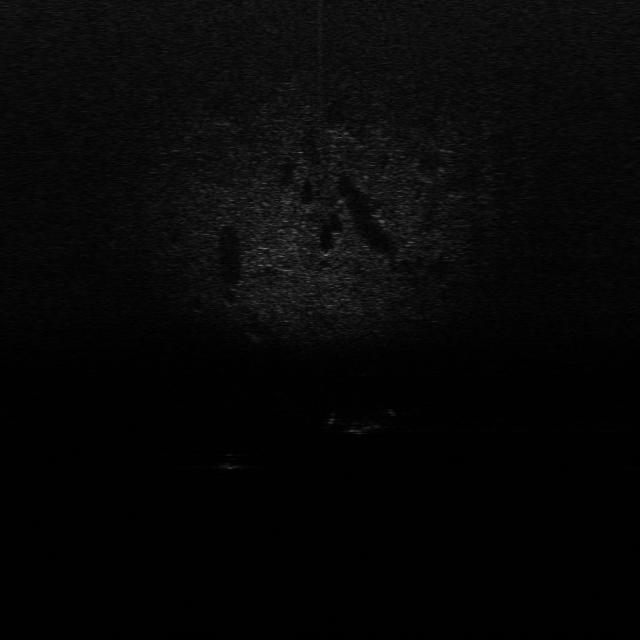ball: (212, 453, 243, 473)
human body: (327, 407, 399, 436)
